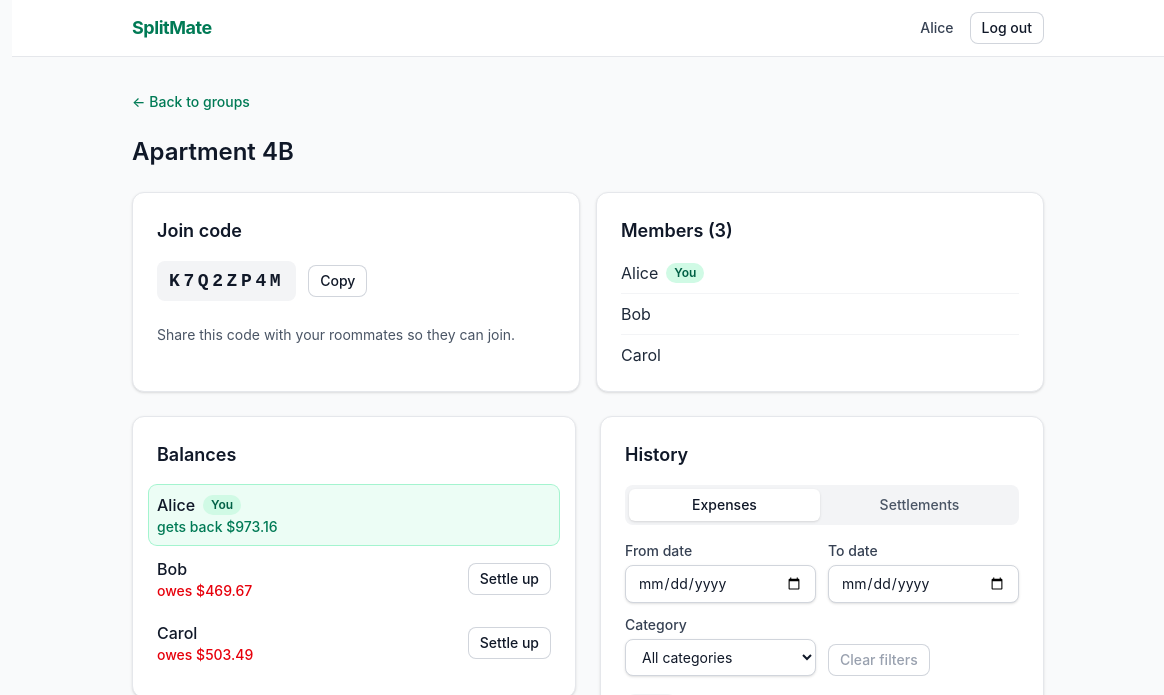
Test case: Settle up › prefills the settlement form: debtor pays the largest creditor the smaller amount
The image size is (1164, 695).
Click the button with aria-label "Settle up for Bob" at (509,579), box [468,563,551,595]
(page scrolled)
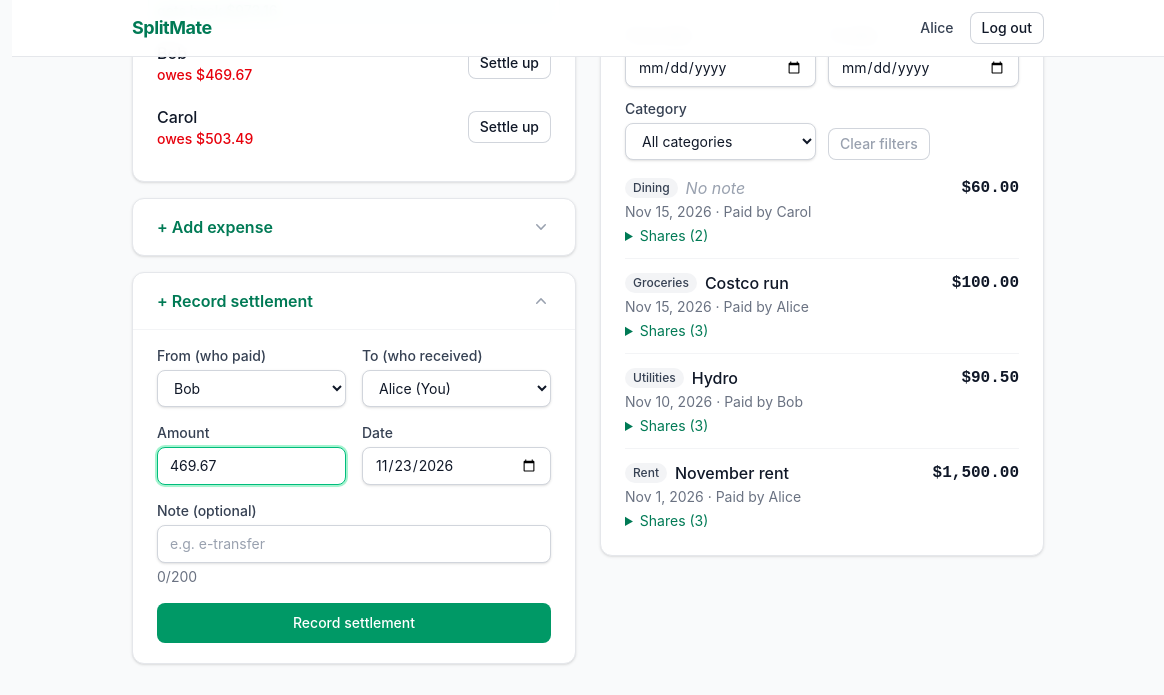
Expected: the dropdown labelled "From (who paid)" shows "Bob", [157,370,346,407]
Expected: the dropdown labelled "To (who received)" shows "Alice (You)", [362,370,551,407]
Expected: the field labelled "Amount" holds "469.67", [157,447,346,485]
Note: A second Settle up replaces the prefill.
Click the button with aria-label "Settle up for Carol" at (509,127), box [468,111,551,143]
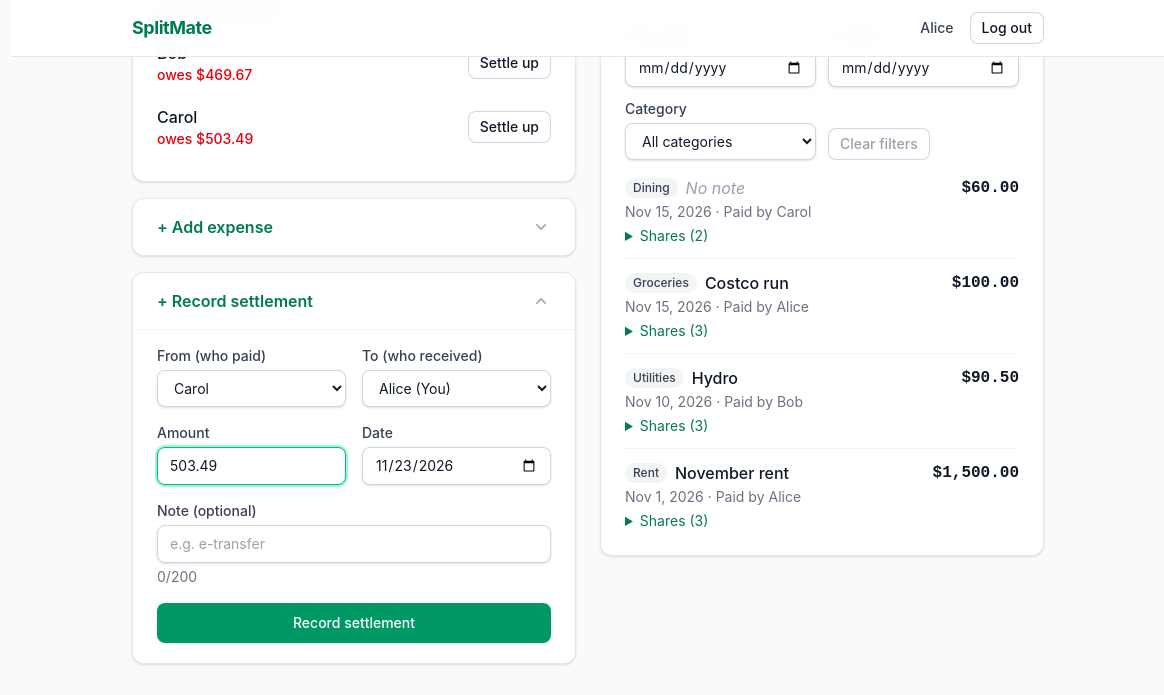
Expected: the dropdown labelled "From (who paid)" shows "Carol", [157,370,346,407]
Expected: the field labelled "Amount" holds "503.49", [157,447,346,485]
